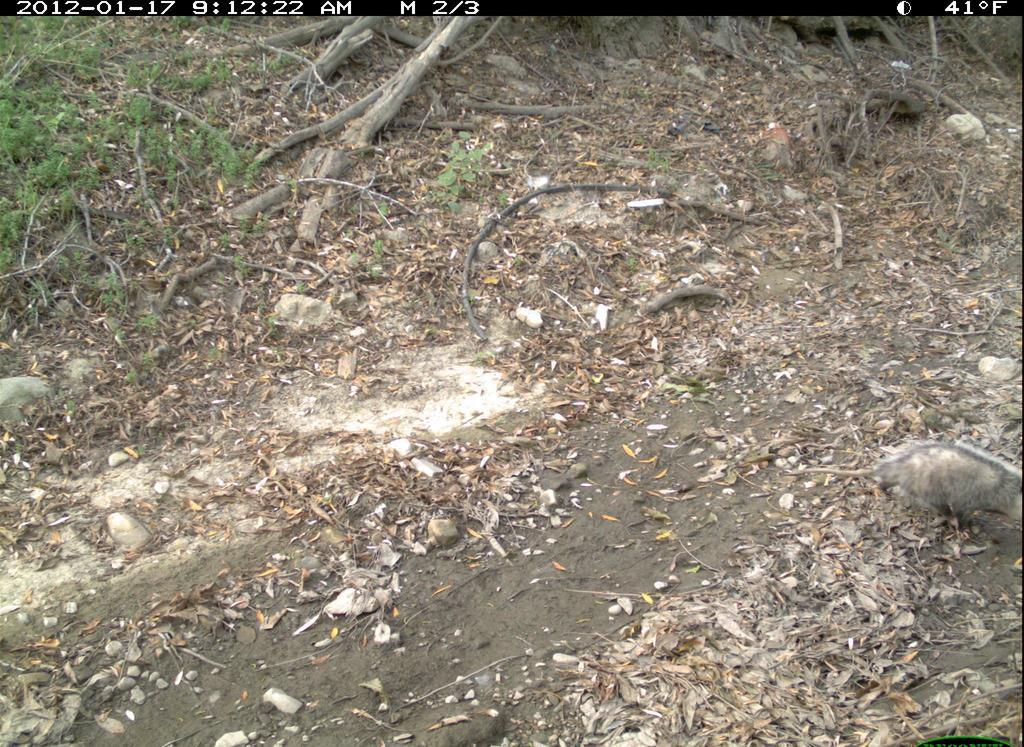opossum: (781, 419, 1023, 546)
